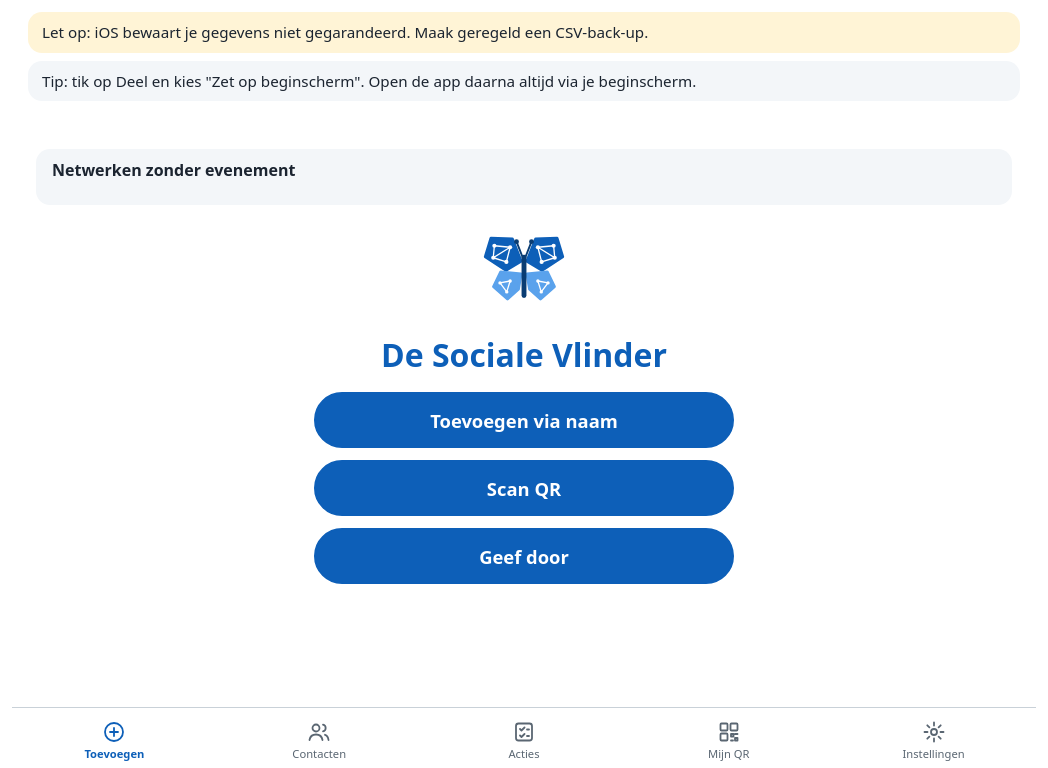
Test: The logo replaces every placeholder butterfly (User Story 1) › on the empty Actions tab
The width and height of the screenshot is (1048, 768).
Click the button "Acties" at (524, 740), box [422,712,626,767]
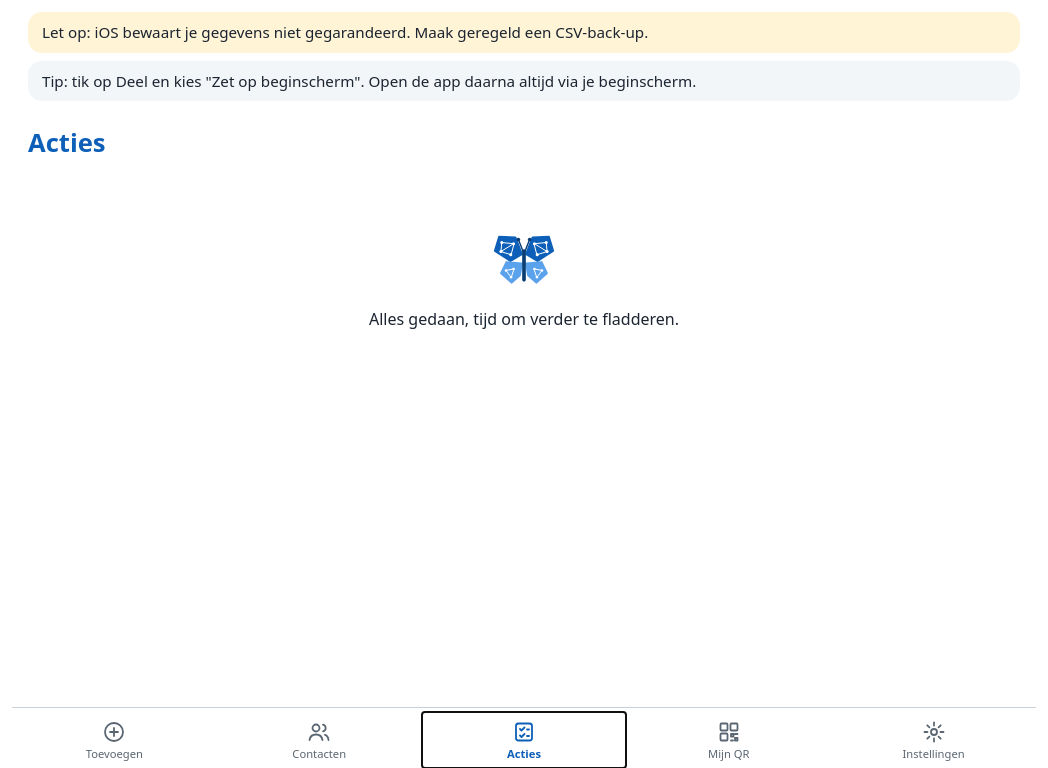
Expected: the picture is shown, [488,224,560,296]
Now the text "Alles gedaan, tijd om verder te fladderen." is shown, box [369,308,679,330]
Now the element showing "Acties Alles gedaan, tijd om verder te fladderen." is shown, box [28,125,679,330]
